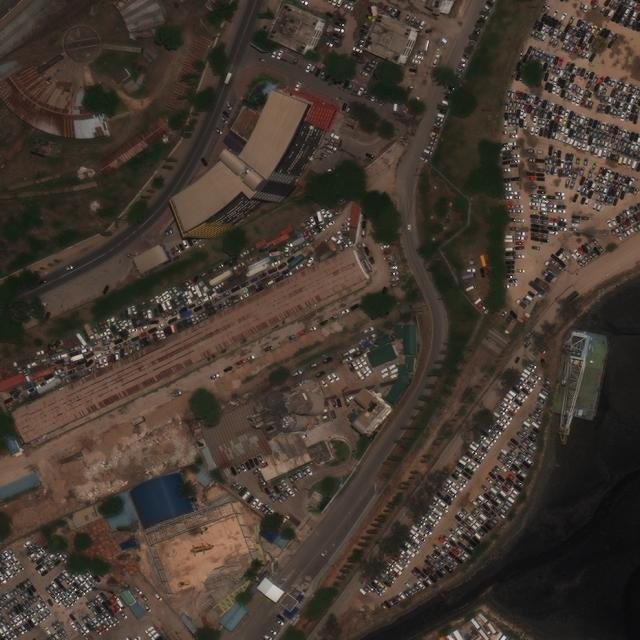Other Ship: (544, 329, 610, 449)
